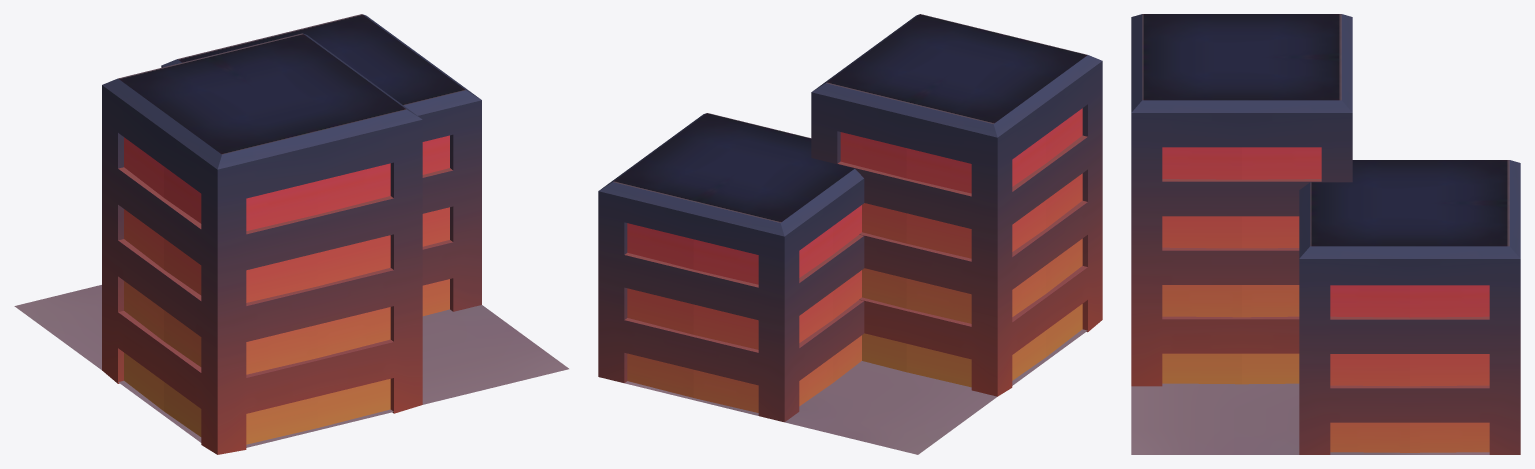
File: build04.FBX
The picture shows the model from 3 angles, left to right: view 1: azimuth 30°, elevation 25°; view 2: azimuth 150°, elevation 25°; view 3: azimuth 270°, elevation 25°; orthographic projection. The views are drawn at different scales.
Visible parts, largest first — view 1: build04; view 2: build04; view 3: build04.
Boxes of the visible parts, x1,y1,x2,y2 form: build04: [14, 14, 568, 454]; build04: [598, 14, 1102, 454]; build04: [1131, 14, 1520, 454].
Bounding box in the file's own units: 1 × 1 × 0.8016.
1 material, 1 textured.
